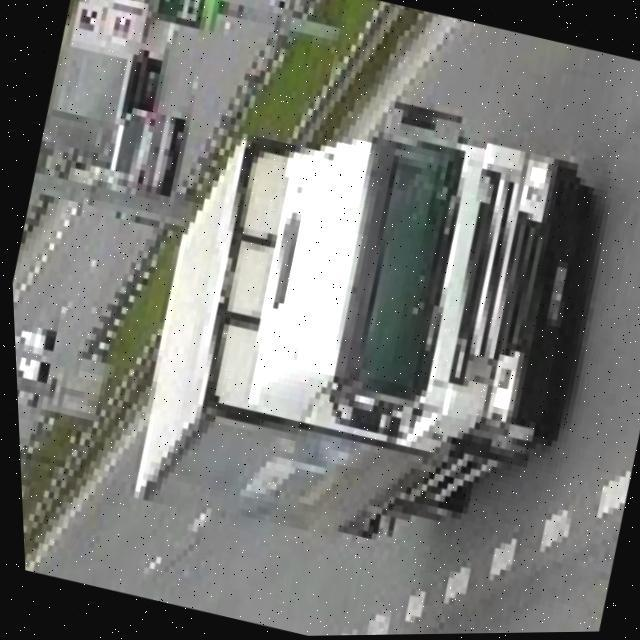truck: (106, 48, 626, 586)
